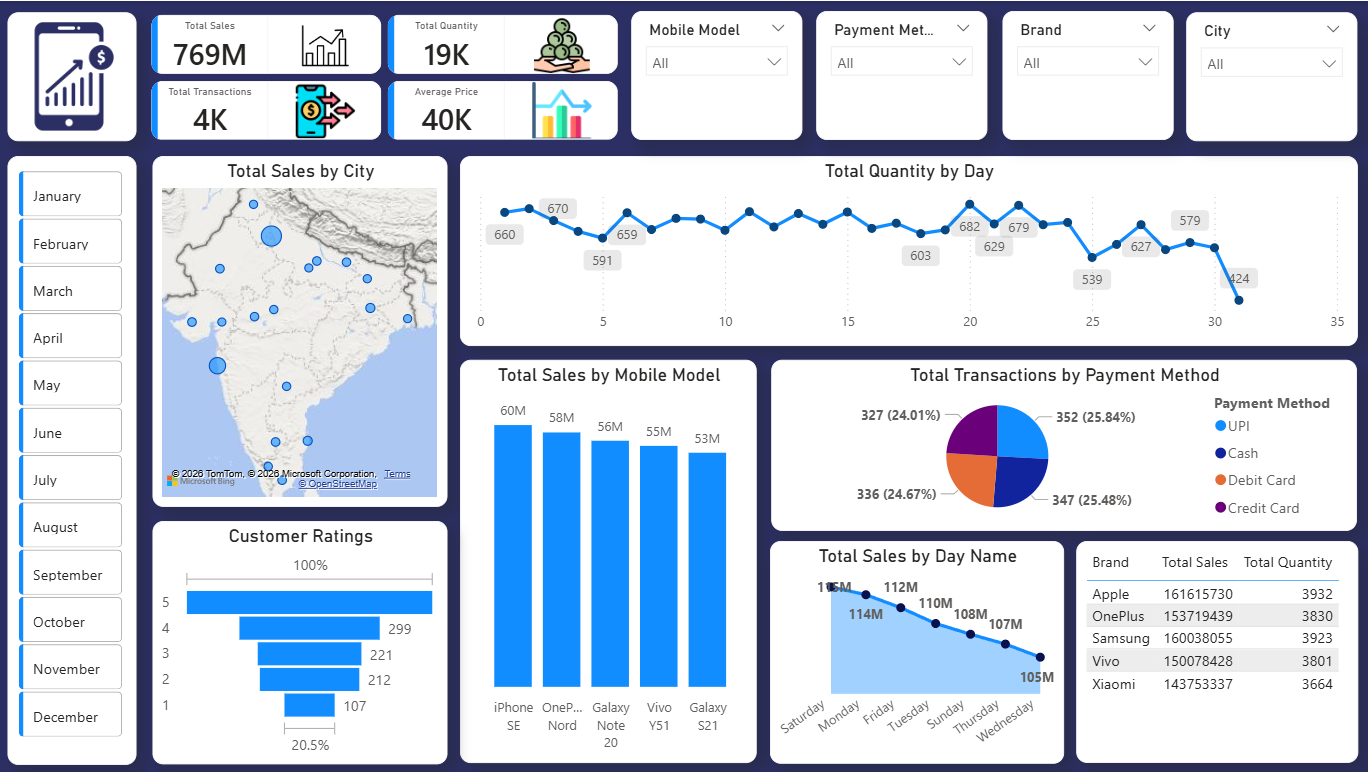

The dashboard page shown, as its layout file describes it:
{"tool":"powerbi","page":{"name":"Mobile Sales Dashboard","canvas":[1280,720],"ordinal":0},"visuals":[{"type":"shape","box":[7.1,10,120,120],"z":0},{"type":"shape","box":[7.5,143.8,120,566.2],"z":1000},{"type":"advancedSlicerVisual","fields":{"Values":["Mobile Sales Data.Date.Variation.Date Hierarchy.Month"]},"box":[12.5,153.8,106.2,547.5],"z":2000},{"type":"cardVisual","fields":{"Data":["Mobile Sales Data.Total Sales","Mobile Sales Data.Total Quantity","Mobile Sales Data.Total Transction","Mobile Sales Data.Average Price"]},"box":[127.6,0,460.1,142.3],"z":3000},{"type":"map","fields":{"Category":["Mobile Sales Data.City"],"Size":["Mobile Sales Data.Total Sales"]},"box":[141.7,143.9,274.4,326.1],"z":4000},{"type":"lineChart","fields":{"Category":["Mobile Sales Data.Date.Variation.Date Hierarchy.Month","Mobile Sales Data.Date.Variation.Date Hierarchy.Day"],"Y":["Mobile Sales Data.Total Quantity"]},"box":[427.9,144.2,834.9,176.7],"z":5000},{"type":"columnChart","fields":{"Category":["Mobile Sales Data.Mobile Model"],"Y":["Mobile Sales Data.Total Sales"]},"box":[428.2,333.7,276.1,375.5],"z":6000},{"type":"pieChart","fields":{"Category":["Mobile Sales Data.Payment Method"],"Y":["Mobile Sales Data.Total Transactions"]},"box":[717.5,333.3,545,159.2],"z":7000},{"type":"funnel","title":"Customer Ratings","fields":{"Category":["Mobile Sales Data.Customer Ratings"],"Y":["CountNonNull(Mobile Sales Data.Customer Ratings)"]},"box":[141.7,483.3,274.4,226.7],"z":8000},{"type":"lineChart","fields":{"Category":["Mobile Sales Data.Day Name"],"Y":["Mobile Sales Data.Total Sales"]},"box":[716.6,501.8,273.6,207.4],"z":9000},{"type":"tableEx","fields":{"Values":["Mobile Sales Data.Brand","Mobile Sales Data.Total Sales","Mobile Sales Data.Total Quantity"]},"box":[1001.1,502.2,262.2,206.7],"z":10000},{"type":"slicer","fields":{"Values":["Mobile Sales Data.Mobile Model"]},"box":[587.7,9.8,159.5,120.2],"z":11000},{"type":"slicer","fields":{"Values":["Mobile Sales Data.Payment Method"]},"box":[759.5,9.8,159.5,120.2],"z":12000},{"type":"slicer","fields":{"Values":["Mobile Sales Data.Brand"]},"box":[932.5,9.8,159.5,120.2],"z":13000},{"type":"slicer","fields":{"Values":["Mobile Sales Data.City"]},"box":[1103.1,11,159.5,120.2],"z":14000},{"type":"image","box":[18.4,19.6,100.6,100.6],"z":15000}]}

Visuals, with their boxes in screenshot pixels (x1, y1, x2, y2), scaled from the page's 1280x720 canvas onto the 1368x772 screenshot:
shape: 8/11/136/139
shape: 8/154/136/761
advancedSlicerVisual - Mobile Sales Data.Date.Variation.Date Hierarchy.Month: 13/165/127/752
cardVisual - Mobile Sales Data.Total Sales x Mobile Sales Data.Total Quantity: 136/0/628/153
map - Mobile Sales Data.City x Mobile Sales Data.Total Sales: 151/154/445/504
lineChart - Mobile Sales Data.Date.Variation.Date Hierarchy.Month x Mobile Sales Data.Date.Variation.Date Hierarchy.Day: 457/155/1350/344
columnChart - Mobile Sales Data.Mobile Model x Mobile Sales Data.Total Sales: 458/358/753/760
pieChart - Mobile Sales Data.Payment Method x Mobile Sales Data.Total Transactions: 767/357/1349/528
"Customer Ratings" funnel: 151/518/445/761
lineChart - Mobile Sales Data.Day Name x Mobile Sales Data.Total Sales: 766/538/1058/760
tableEx - Mobile Sales Data.Brand x Mobile Sales Data.Total Sales: 1070/538/1350/760
slicer - Mobile Sales Data.Mobile Model: 628/11/799/139
slicer - Mobile Sales Data.Payment Method: 812/11/982/139
slicer - Mobile Sales Data.Brand: 997/11/1167/139
slicer - Mobile Sales Data.City: 1179/12/1349/141
image: 20/21/127/129
